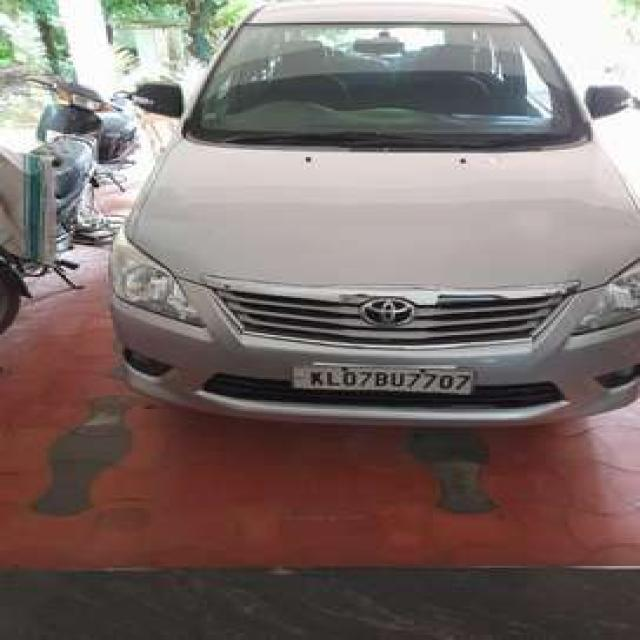licenseplate: (294, 362, 474, 393)
